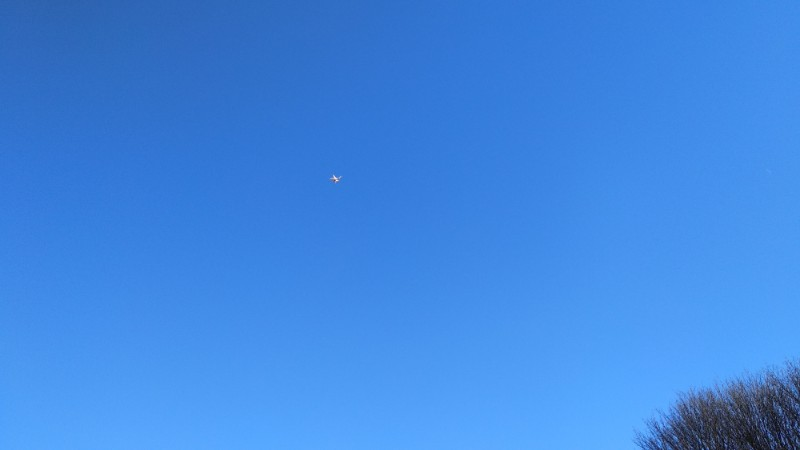drone: (328, 172, 343, 186)
